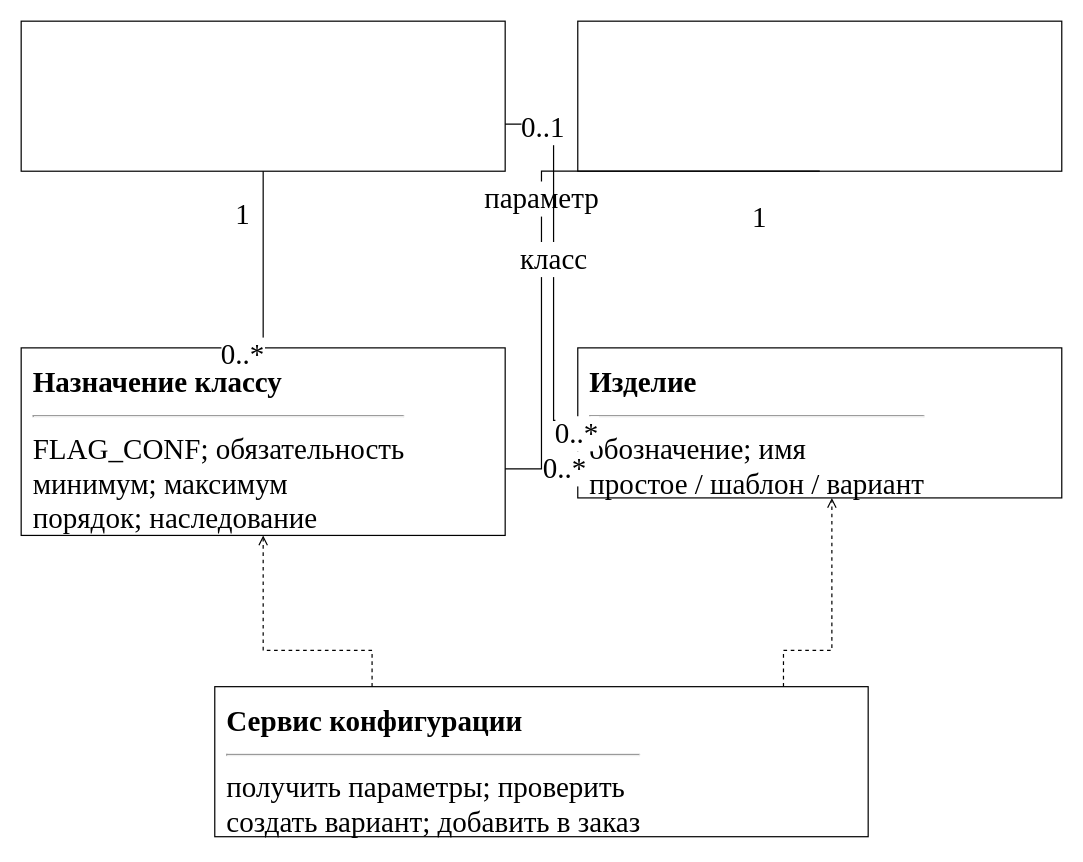
The diagram is 1083 pixels wide and 862 high, and some of its shapes have lost their labels. The centre of each missing label's shape, as x and y in pixels:
"Класс изделия имя; обозначение родительский класс (0..1)" goes at (262,95).
"Параметр код; тип; единица перечисление (при наличии)" goes at (819,95).
